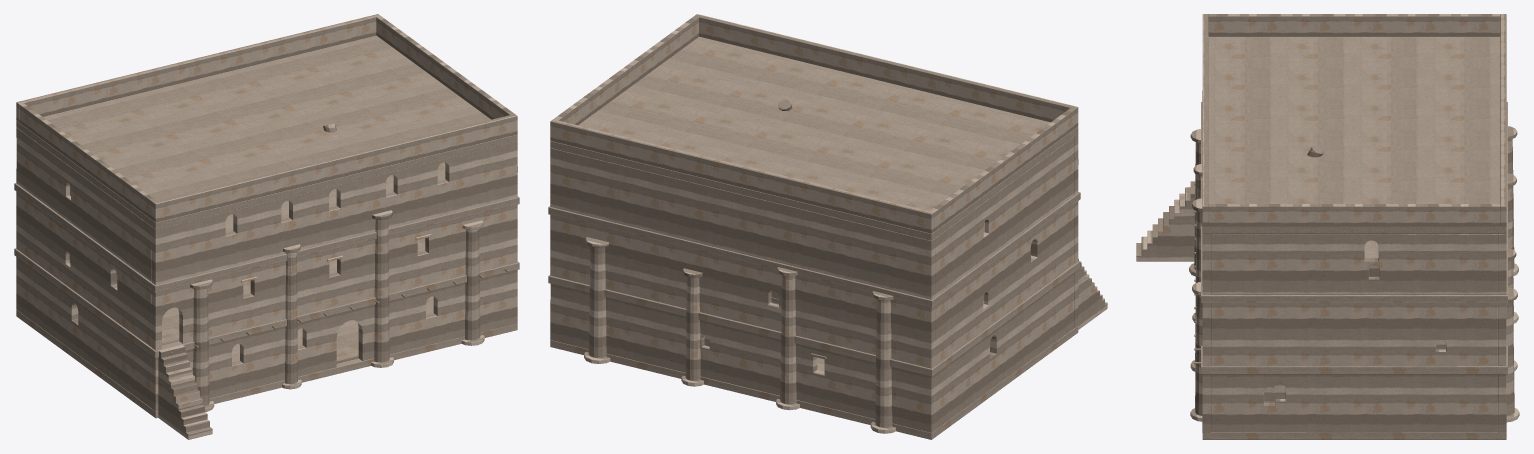
File: block_28.glb
The picture shows the model from 3 angles, left to right: view 1: azimuth 30°, elevation 25°; view 2: azimuth 150°, elevation 25°; view 3: azimuth 270°, elevation 25°; orthographic projection. The views are drawn at different scales.
Parts seen in each view (by area): view 1: block; view 2: block; view 3: block.
Boxes of the visible parts, bbox=[...] form: block: bbox=[14, 14, 519, 439]; block: bbox=[548, 14, 1107, 439]; block: bbox=[1136, 14, 1519, 439].
Size of the model in its own units: 22.57 by 12.69 by 18.85.
3 materials, 3 textured.
